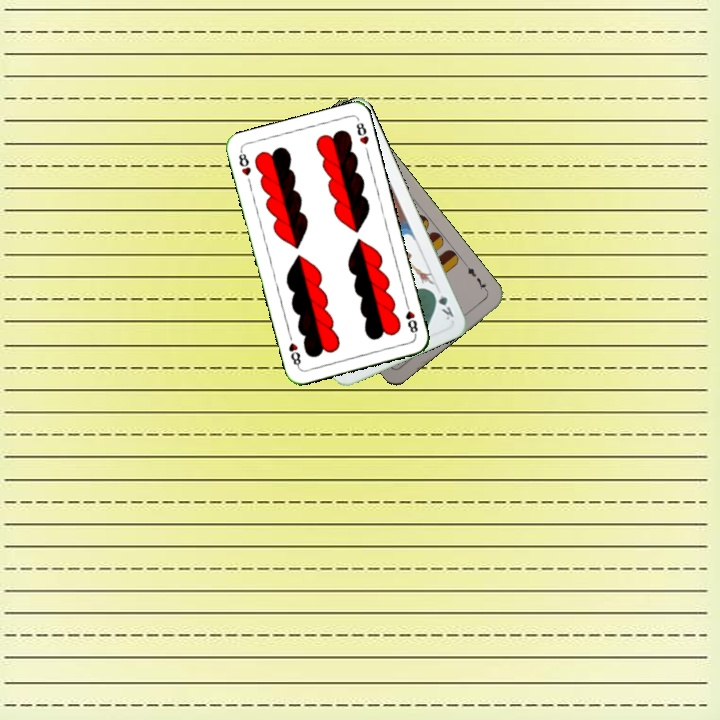E7: (461, 260, 490, 295)
GK: (428, 287, 457, 322)
H8: (401, 298, 420, 338), (234, 147, 254, 178)
